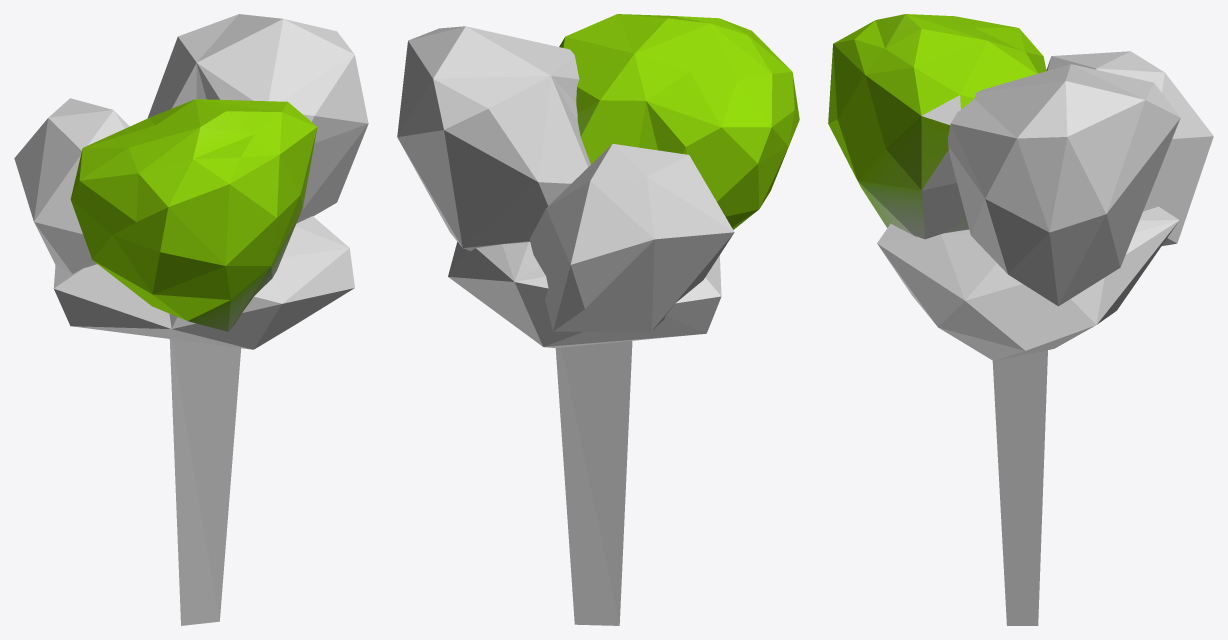
Rendered from treeFinal_LOD1.fbx.
3 renders of one model, left to right at view 1: azimuth 30°, elevation 25°; view 2: azimuth 150°, elevation 25°; view 3: azimuth 270°, elevation 25°, orthographic. The views are drawn at different scales.
Parts seen in each view (by area): view 1: Leaves1, Leaves3, Trunk_LOD_sidewall, Leaves4, Leaves2; view 2: Leaves3, Leaves1, Leaves2, Trunk_LOD_sidewall, Leaves4; view 3: Leaves3, Leaves1, Leaves4, Trunk_LOD_sidewall, Leaves2.
Boxes of the visible parts, box(x1,y1,x2,y2) form: Leaves1: box(70, 99, 317, 331); Leaves3: box(147, 14, 368, 223); Trunk_LOD_sidewall: box(169, 339, 241, 625); Leaves4: box(53, 216, 354, 349); Leaves2: box(14, 98, 129, 273); Leaves3: box(397, 26, 590, 251); Leaves1: box(559, 14, 799, 229); Leaves2: box(529, 144, 734, 331); Trunk_LOD_sidewall: box(555, 341, 632, 625); Leaves4: box(448, 242, 721, 347); Leaves3: box(948, 64, 1180, 306); Leaves1: box(828, 14, 1046, 239); Leaves4: box(877, 206, 1179, 360); Trunk_LOD_sidewall: box(992, 350, 1047, 625); Leaves2: box(1046, 51, 1213, 245).
Bounding box in the file's own units: 4.39 × 7.39 × 4.36.
